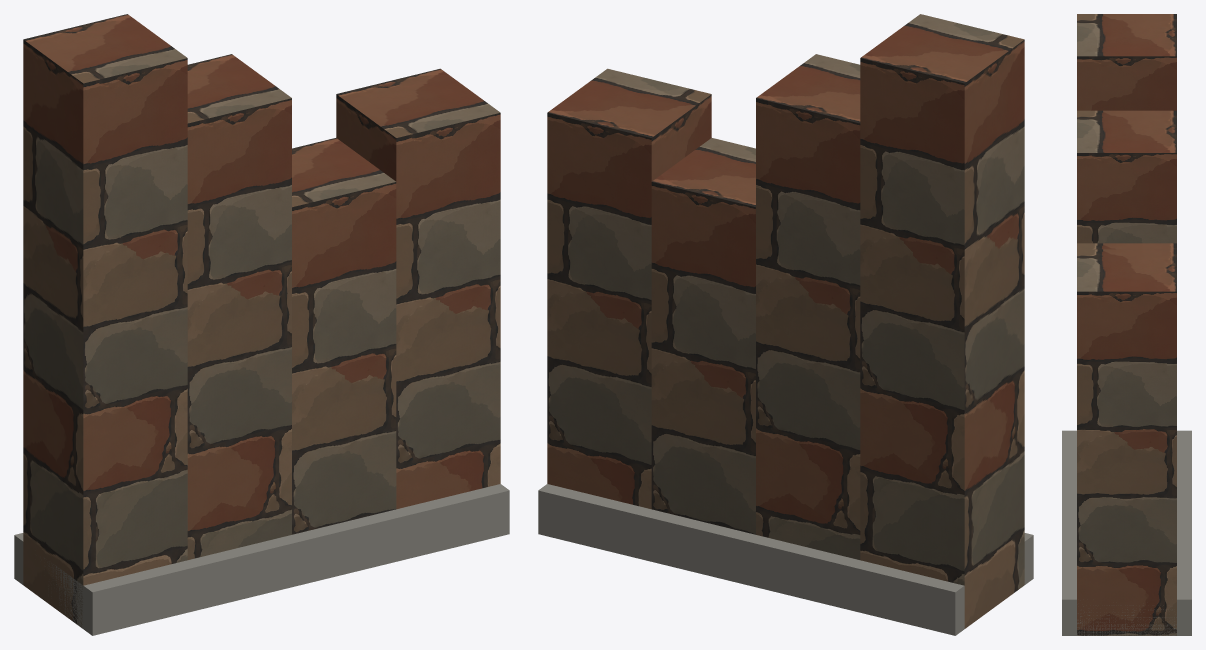
The model's file is wall_broken.glb.
The picture shows the model from 3 angles, left to right: view 1: azimuth 30°, elevation 25°; view 2: azimuth 150°, elevation 25°; view 3: azimuth 270°, elevation 25°; orthographic projection. The views are drawn at different scales.
Parts seen in each view (by area): view 1: wall_broken; view 2: wall_broken; view 3: wall_broken.
Part boxes in pixels (bbox=[...]): wall_broken: bbox=[14, 14, 509, 635]; wall_broken: bbox=[538, 14, 1033, 635]; wall_broken: bbox=[1062, 14, 1191, 635].
Bounding box in the file's own units: 2 × 2.5 × 0.65.
2 materials, 1 textured.
